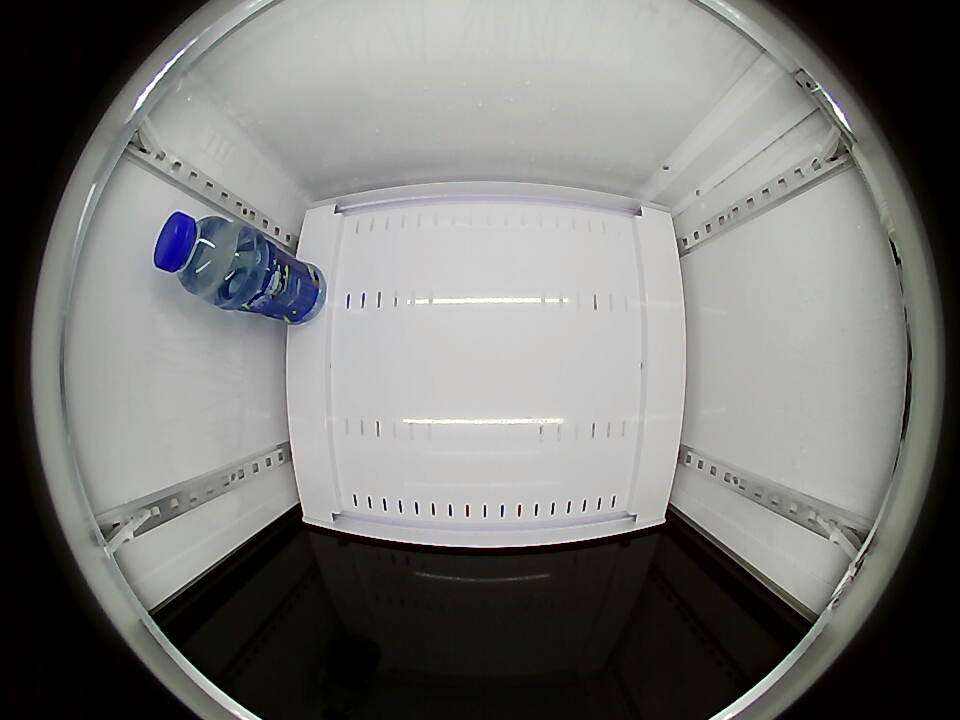maidong: (153, 211, 251, 302)
